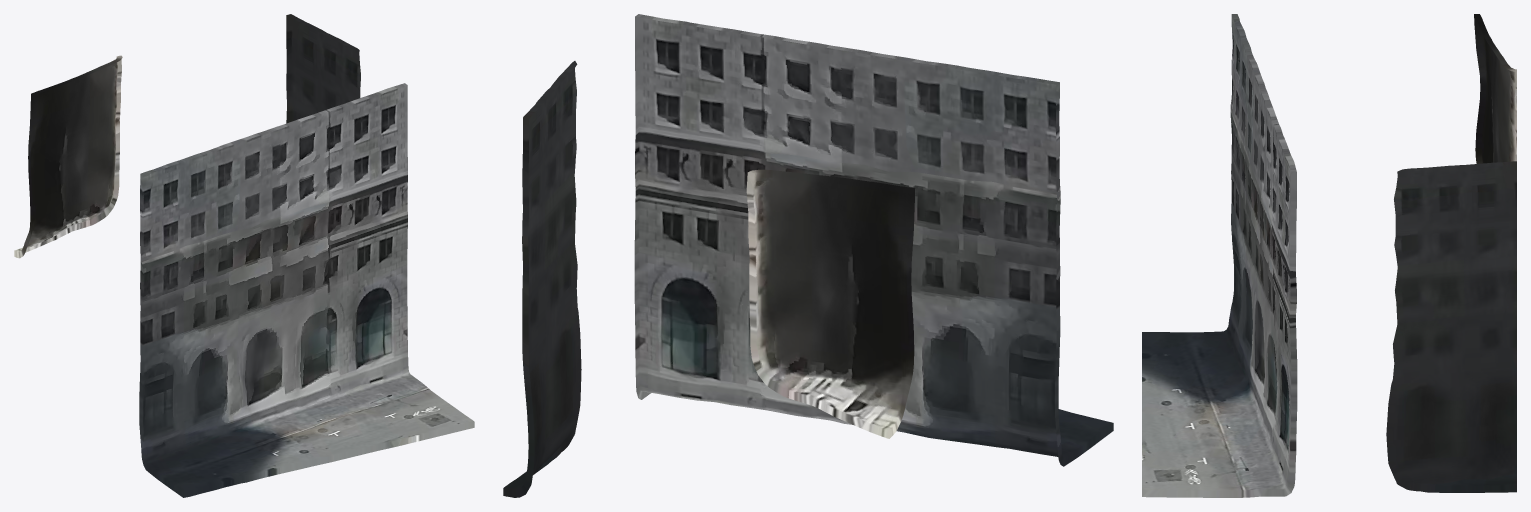
File: z20-167769-405237-h0-yup-uvflip-v3-world.glb
The picture shows the model from 3 angles, left to right: view 1: azimuth 30°, elevation 25°; view 2: azimuth 150°, elevation 25°; view 3: azimuth 270°, elevation 25°; orthographic projection. The views are drawn at different scales.
Bounding box in the file's own units: 30.16 × 29.12 × 30.32.
1 material, 1 textured.
